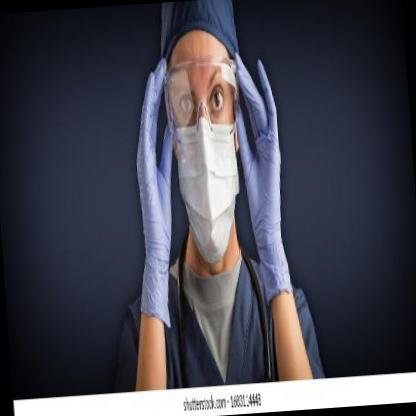Gloves: (123, 57, 187, 333), (230, 50, 294, 298)
